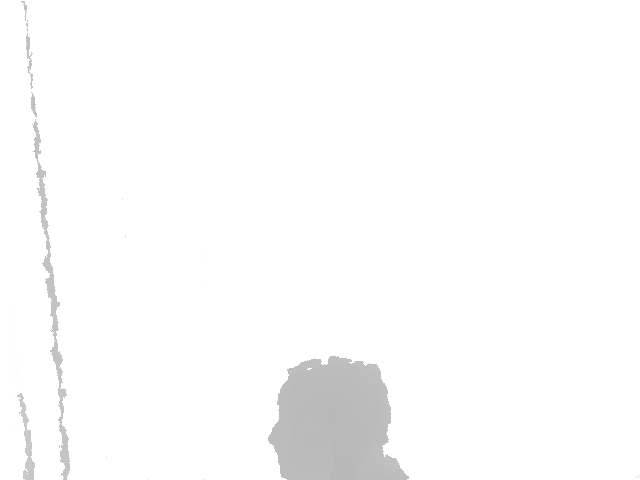head: (268, 355, 392, 480)
person: (267, 355, 411, 480)
